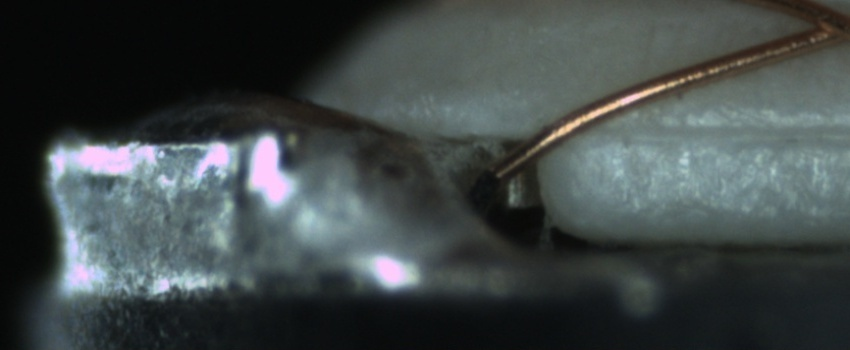CL: (793, 3, 850, 54)
DL: (605, 96, 844, 165)
